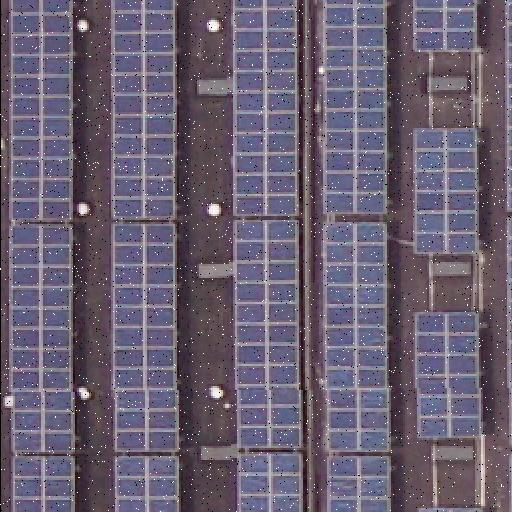solar-panel: (112, 224, 180, 452), (235, 220, 301, 448), (324, 221, 388, 451), (10, 224, 74, 452), (7, 0, 73, 220), (234, 0, 298, 216), (113, 0, 175, 218), (325, 0, 387, 216), (415, 310, 481, 438), (412, 126, 476, 254), (115, 454, 181, 512), (323, 454, 389, 512), (12, 454, 76, 512), (236, 454, 300, 512), (413, 0, 475, 52), (504, 0, 512, 208), (508, 213, 512, 443), (416, 505, 480, 511), (508, 454, 512, 512)
